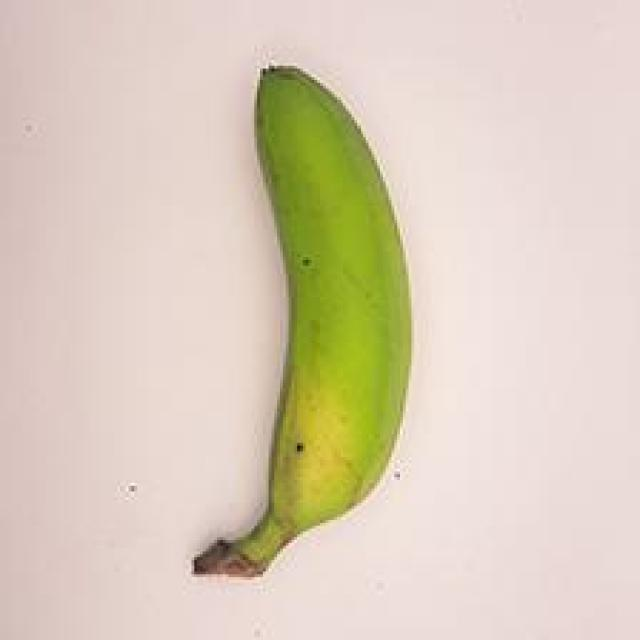Unripe: (144, 43, 438, 609)
